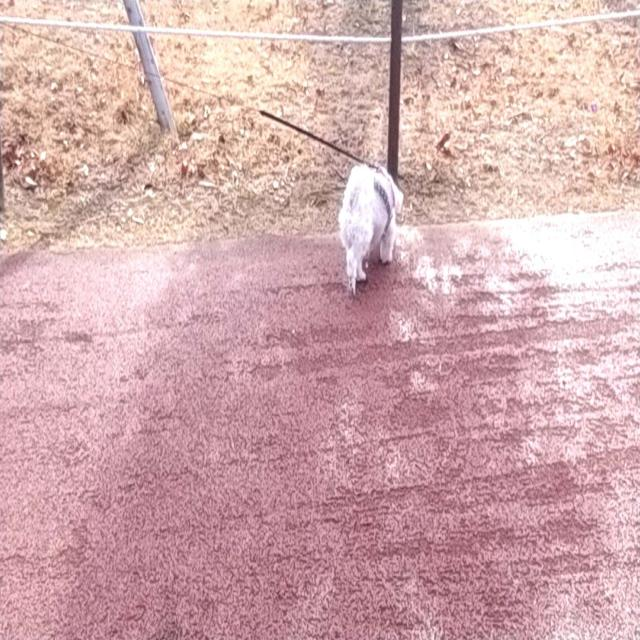Dog: (339, 162, 403, 294)
